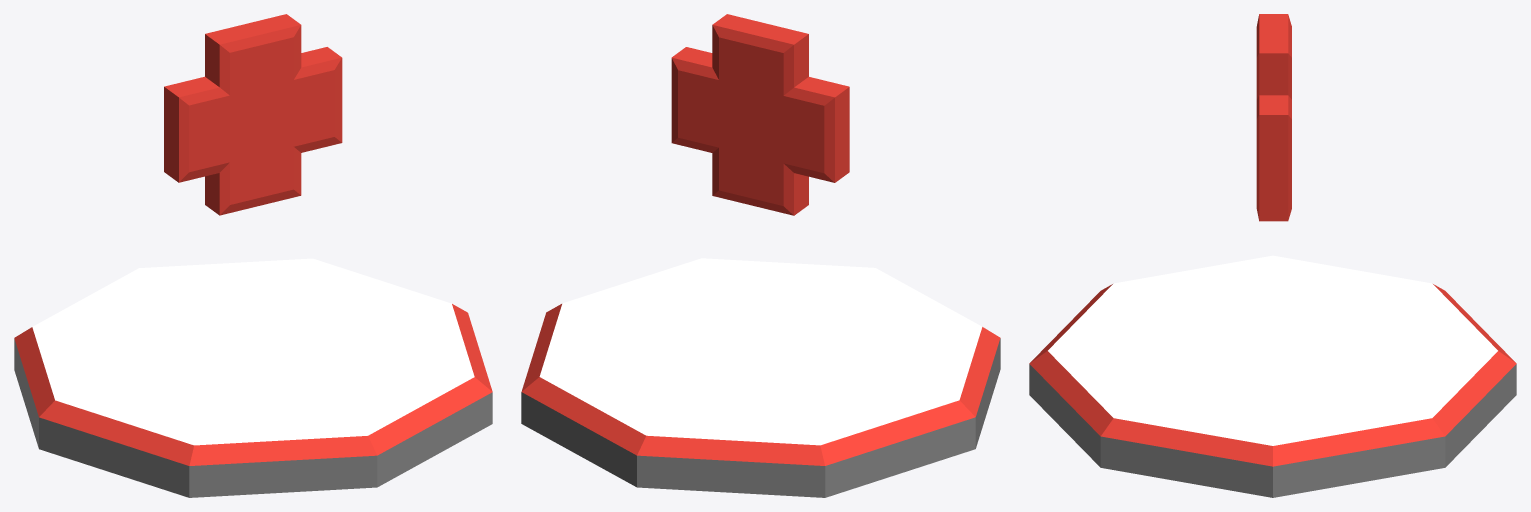
The model's file is HealthPack.fbx.
3 renders of one model, left to right at view 1: azimuth 30°, elevation 25°; view 2: azimuth 150°, elevation 25°; view 3: azimuth 270°, elevation 25°, orthographic.
Visible parts, largest first — view 1: Platform, Health Pack; view 2: Platform, Health Pack; view 3: Platform, Health Pack.
Boxes of the visible parts, x1,y1,x2,y2 form: Platform: (14, 258, 492, 497); Health Pack: (164, 14, 342, 215); Platform: (521, 258, 1000, 497); Health Pack: (671, 14, 849, 215); Platform: (1029, 255, 1516, 497); Health Pack: (1256, 14, 1291, 221).
Size of the model in its own units: 400 by 327 by 400.
